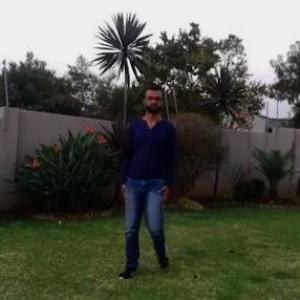follow: (123, 90, 172, 258)
